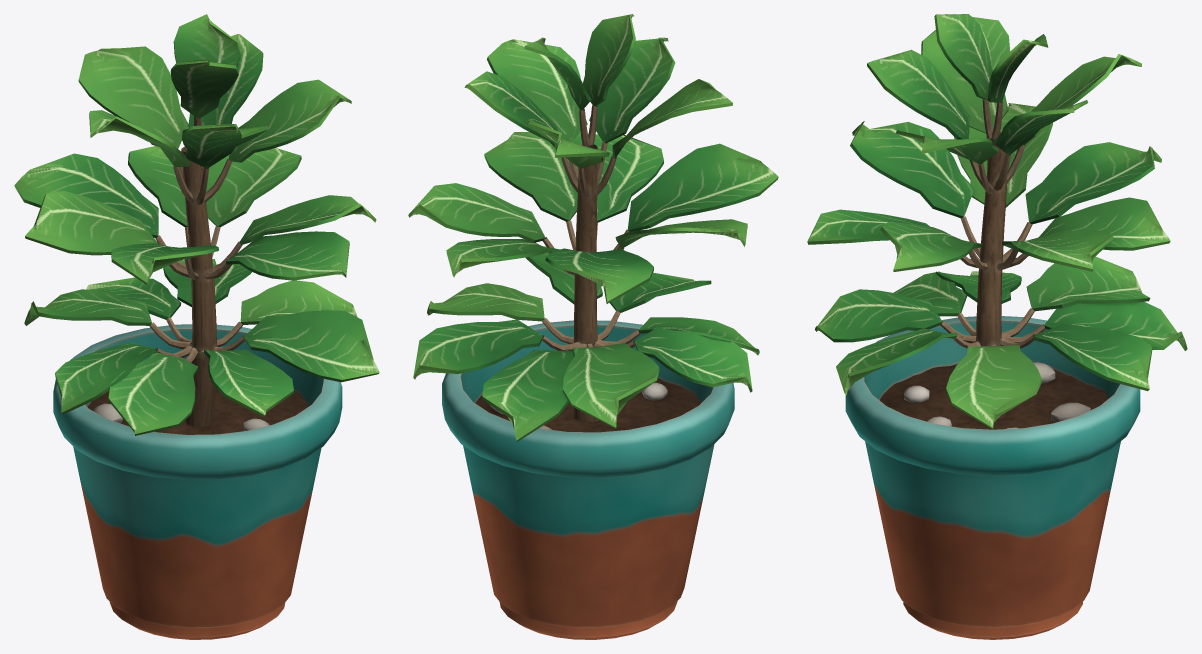
The model's file is plant-small.fbx.
3 renders of one model, left to right at view 1: azimuth 30°, elevation 25°; view 2: azimuth 150°, elevation 25°; view 3: azimuth 270°, elevation 25°, orthographic. The views are drawn at different scales.
Parts seen in each view (by area): view 1: Anim Sway, Body; view 2: Anim Sway, Body; view 3: Anim Sway, Body.
Part boxes in pixels (left/top/right/bottom): Anim Sway: left=14, top=14, right=379, bottom=435; Body: left=53, top=324, right=342, bottom=639; Anim Sway: left=408, top=14, right=778, bottom=441; Body: left=442, top=320, right=734, bottom=639; Anim Sway: left=807, top=14, right=1187, bottom=429; Body: left=845, top=316, right=1140, bottom=639.
Bounding box in the file's own units: 0.5508 × 0.9233 × 0.5462.
